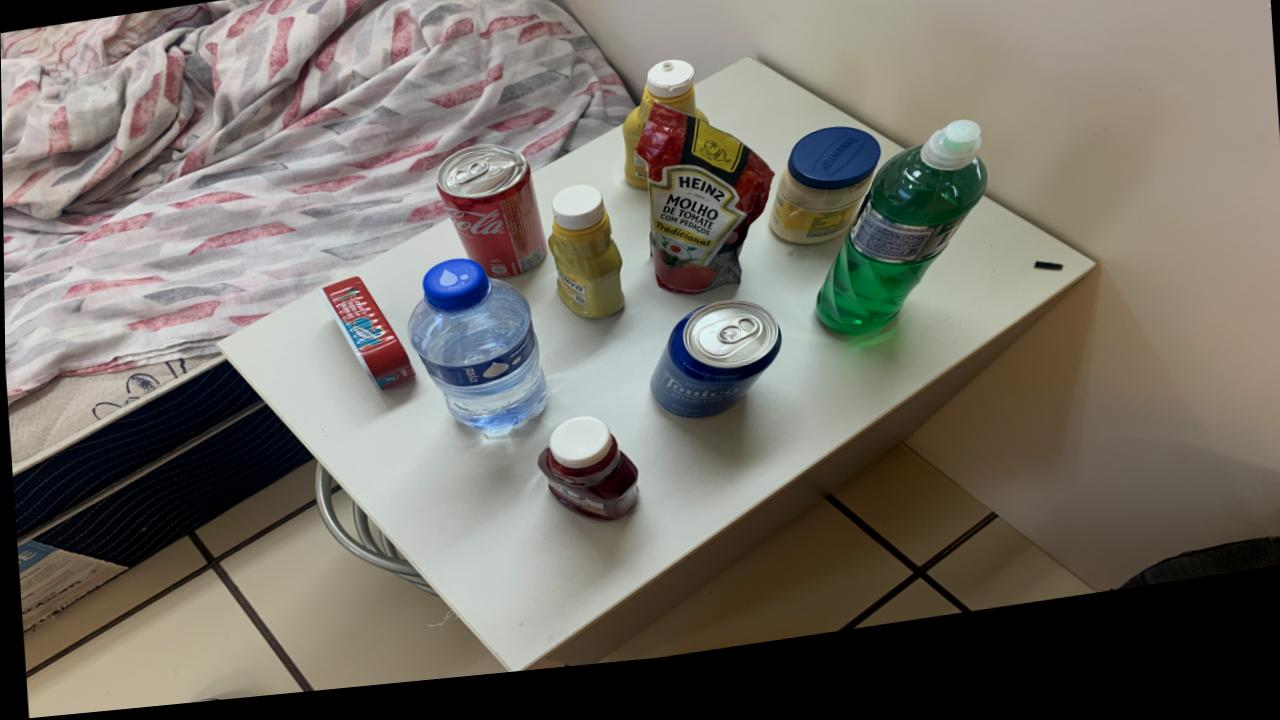Coke-Drinks: (436, 153, 546, 289)
Detergent-Cleanup_Items: (815, 139, 987, 351)
Ketchup-Pantry_Items: (536, 428, 637, 533)
Mayonnaise-Pantry_Items: (767, 143, 879, 261)
Mustard-Pantry_Items: (621, 73, 706, 201), (547, 196, 622, 331)
Tomato_Sauce-Pantry_Items: (637, 118, 773, 309)
Tonic-Drinks: (649, 315, 780, 432)
Tuna_Can-Pantry_Items: (319, 284, 412, 397)
Water_Bottle-Drinks: (406, 267, 545, 446)
